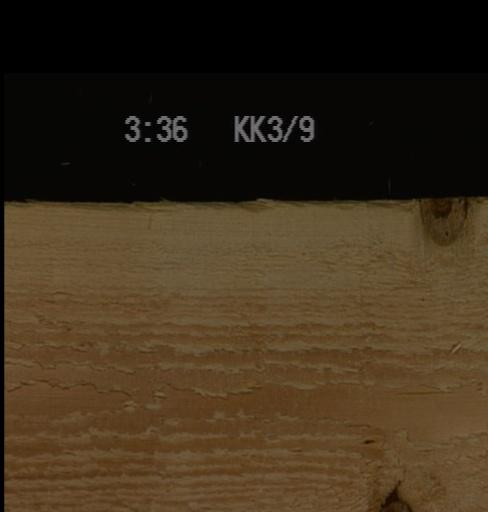edge_knot: (416, 196, 470, 245)
wave: (4, 195, 412, 211)
